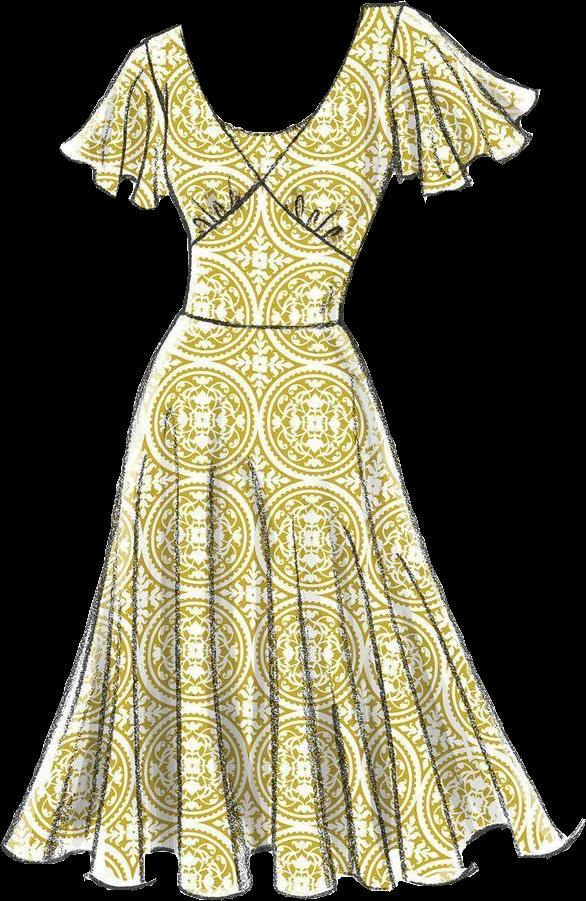Bodice: (142, 0, 409, 328)
Hemline: (0, 824, 580, 900)
Neckline: (173, 3, 369, 190), (187, 176, 357, 267)
Skirt: (0, 311, 573, 900)
Sleeve: (390, 5, 540, 202), (59, 42, 169, 209)
Sleeveline: (140, 3, 414, 128), (140, 39, 169, 127)
Waistline: (175, 304, 348, 333)
